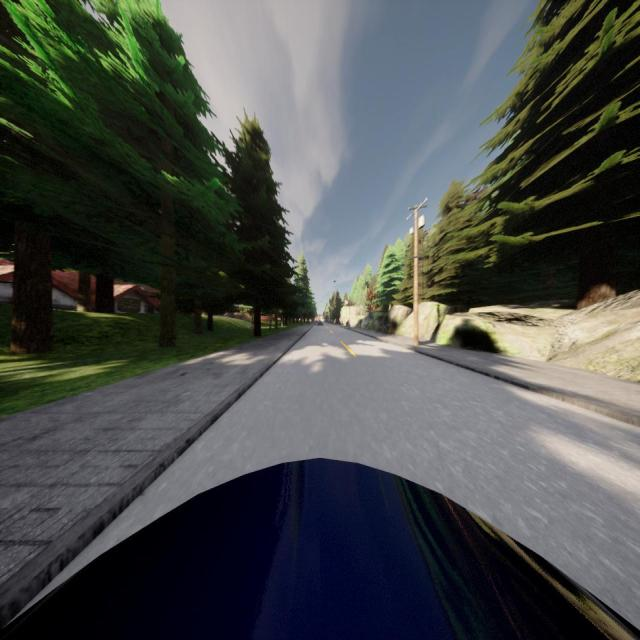Vehicle: (0, 460, 640, 640), (317, 320, 323, 326)
